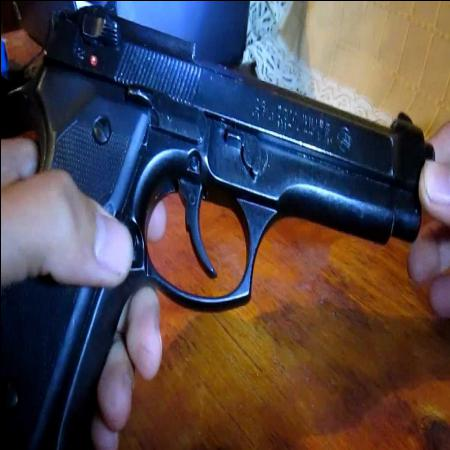Pistol: (1, 9, 429, 445)
